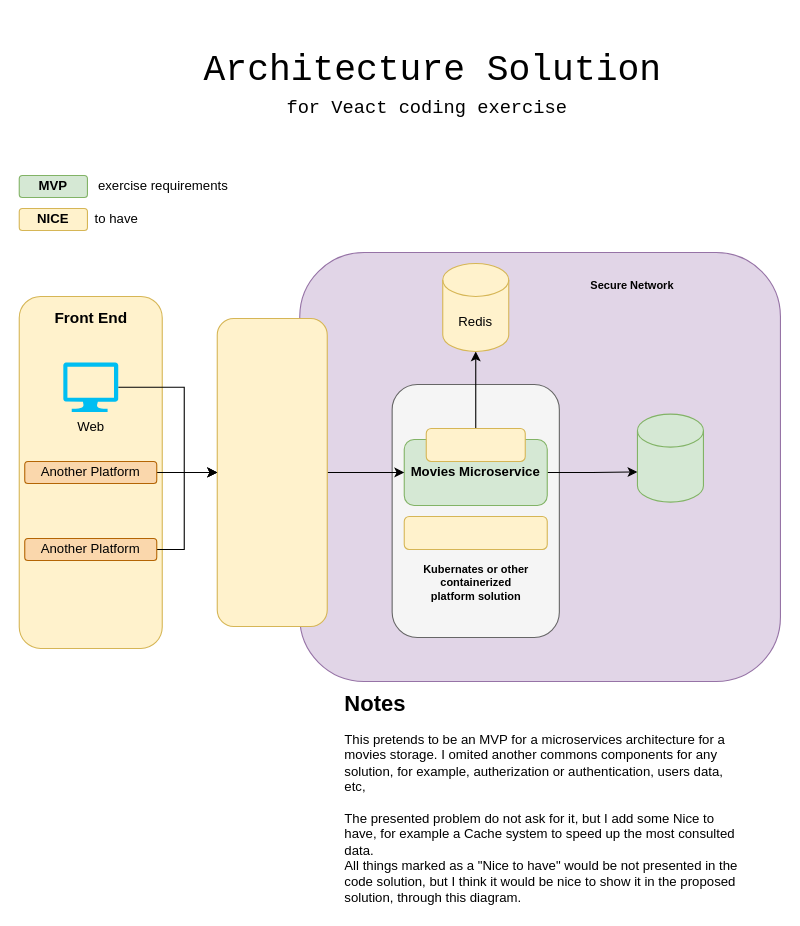
The diagram is 800 pixels wide and 926 high, and some of its shapes have lost their labels. The centre of each missing label's shape, as x and y in pixels:
Another Microservice: point 475,532
API Gateway: point 271,471
Cache: point 475,444
Mongo DB: point 669,457
